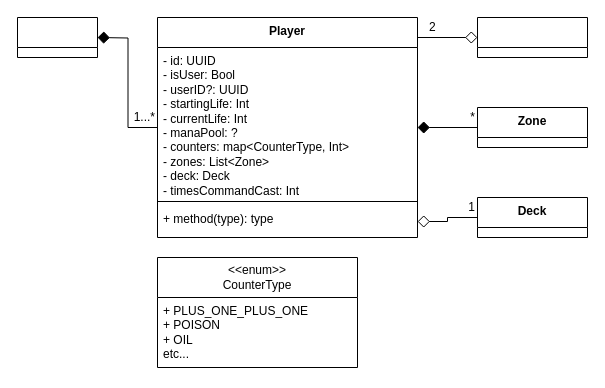
The diagram is 605 pixels wide and 388 high, and some of its shapes have lost their labels. The centre of each missing label's shape, as x and y in pixels:
Game: pixel 57 37
GameCard: pixel 532 37
